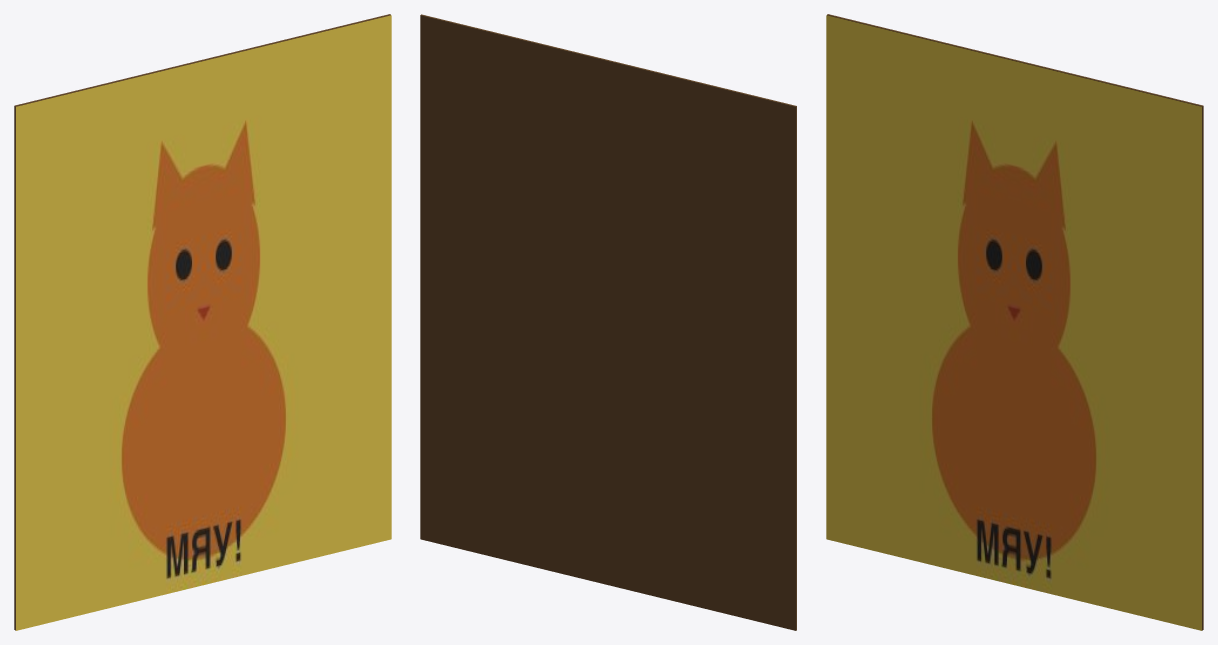
The model's file is poster_cat.glb.
The picture shows the model from 3 angles, left to right: view 1: azimuth 30°, elevation 25°; view 2: azimuth 150°, elevation 25°; view 3: azimuth 330°, elevation 25°; orthographic projection.
Visible parts, largest first — view 1: poster; view 2: poster; view 3: poster.
Part boxes in pixels (x1,y1,x2,y2): poster: (14,14,391,630); poster: (420,14,796,630); poster: (826,14,1203,630).
Bounding box in the file's own units: 0.6 × 0.8 × 0.0045.
2 materials, 1 textured.
